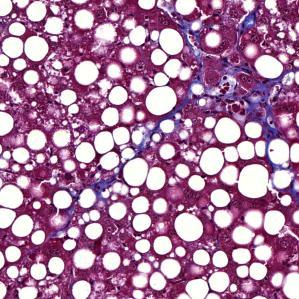fibrosis: (194, 71, 265, 117)
